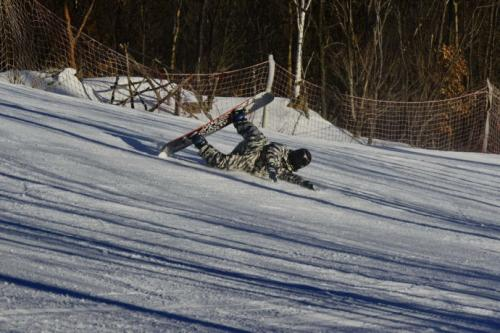fall: (164, 92, 325, 194)
